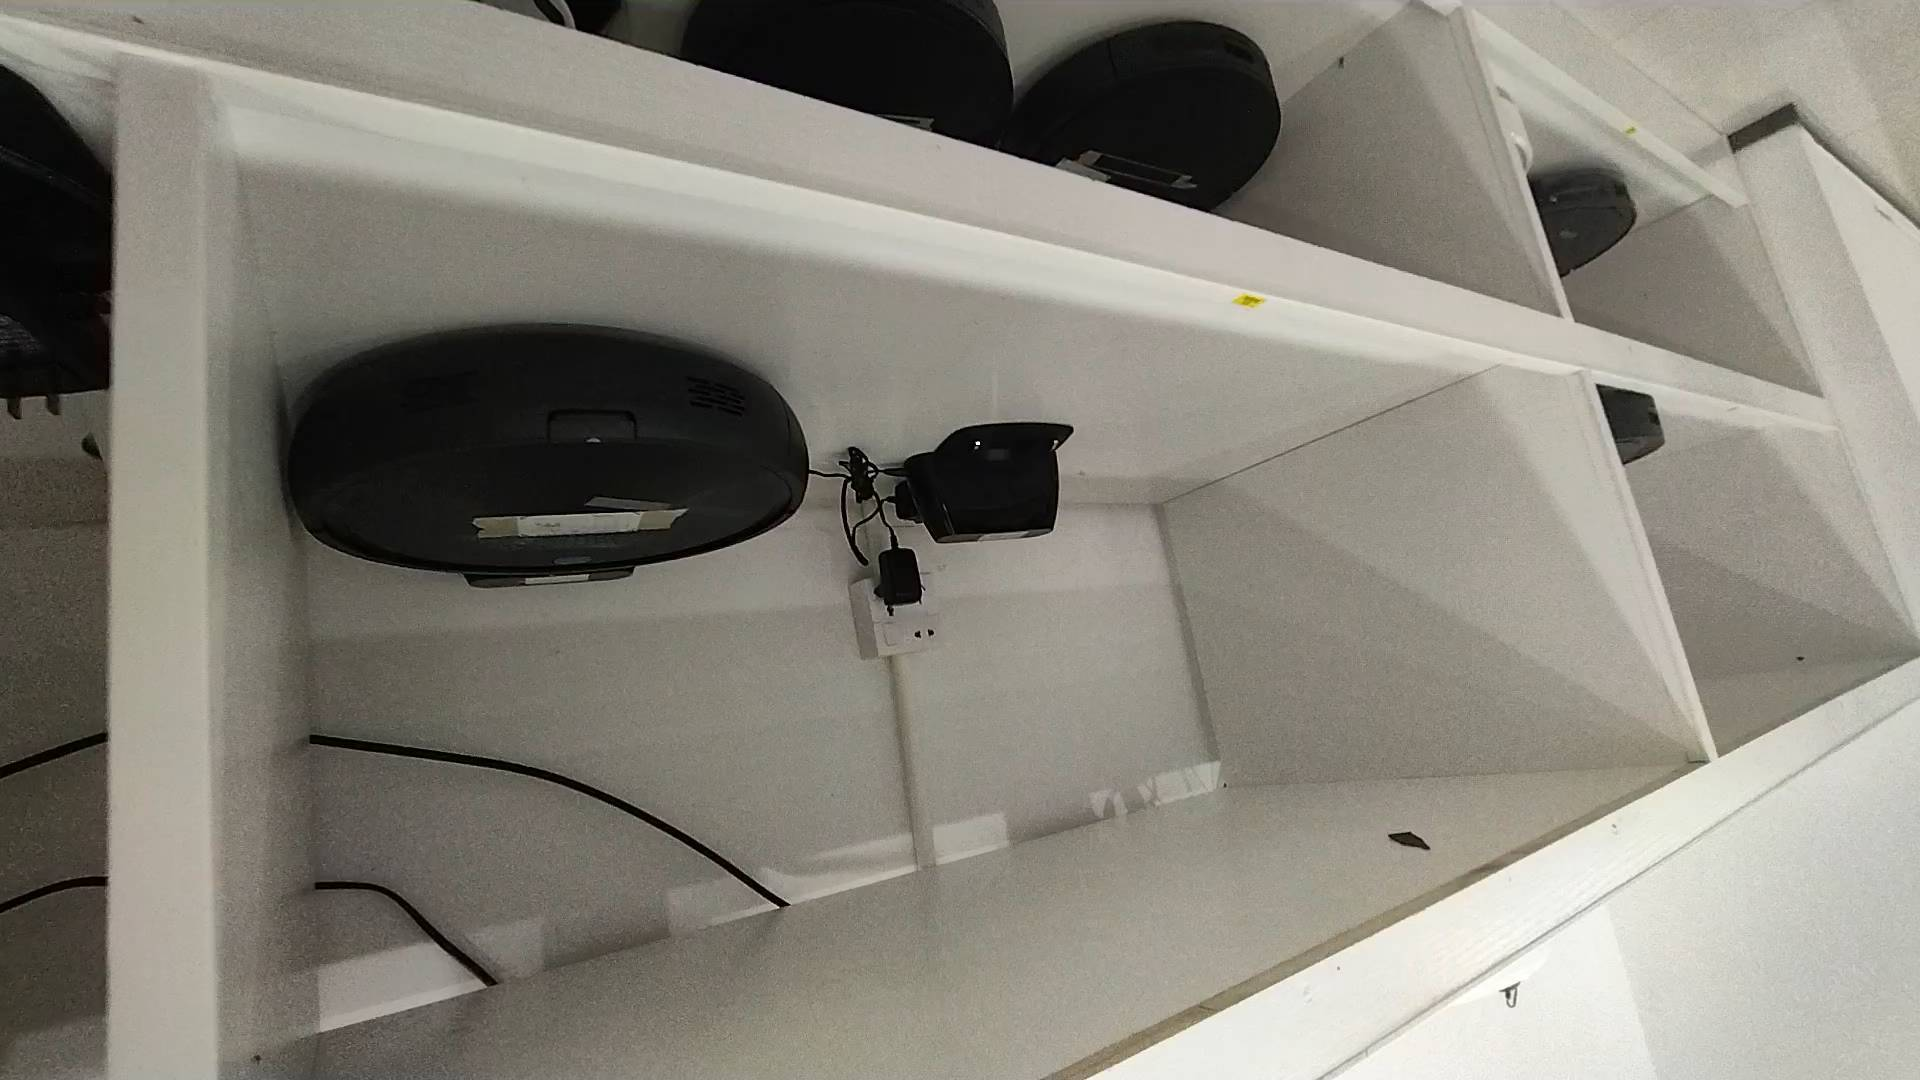recharge seat: (909, 423, 1083, 543)
